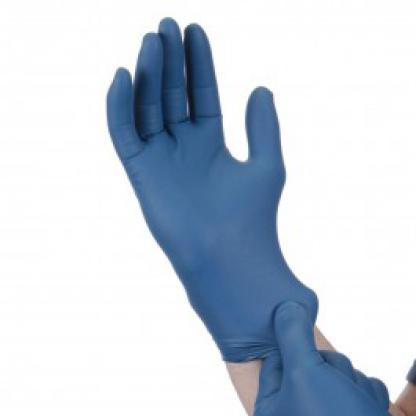with_gloves: (101, 14, 355, 348), (245, 302, 394, 416)
